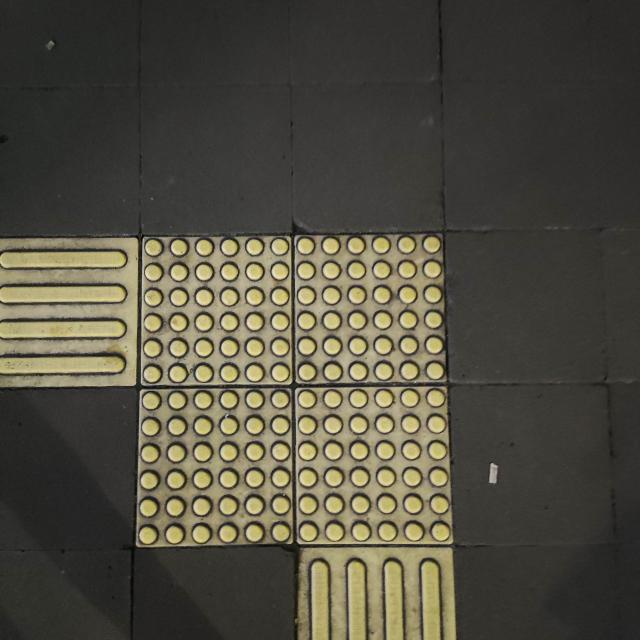kiri: (0, 188, 527, 640)
